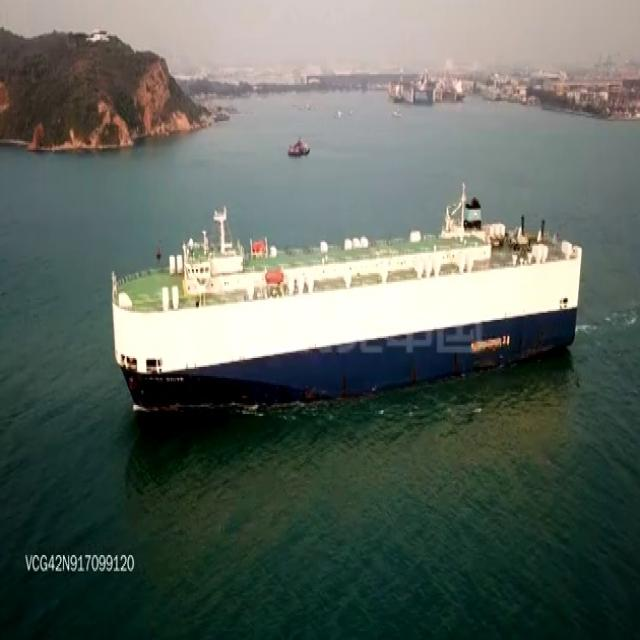cargoship: (285, 133, 308, 157)
passenger ship: (105, 194, 583, 411)
